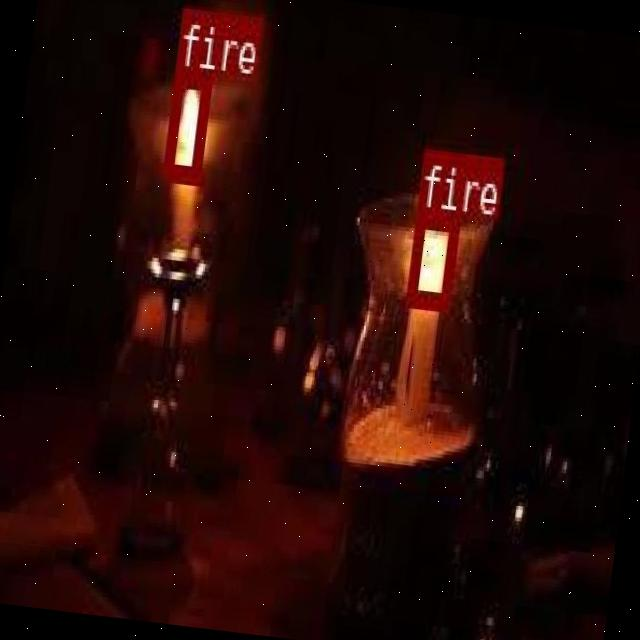fire: (160, 65, 210, 181), (404, 206, 457, 305)
